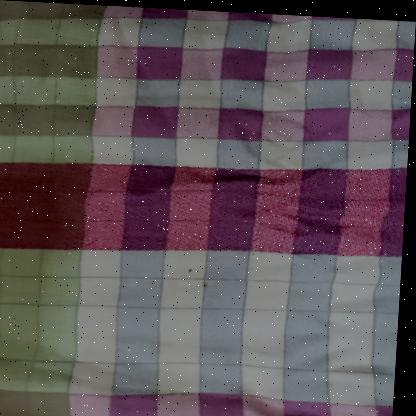spot: (199, 276, 217, 288), (181, 264, 204, 271)
